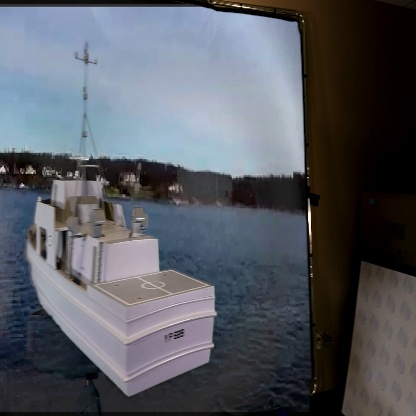YP689: (25, 49, 217, 396)
